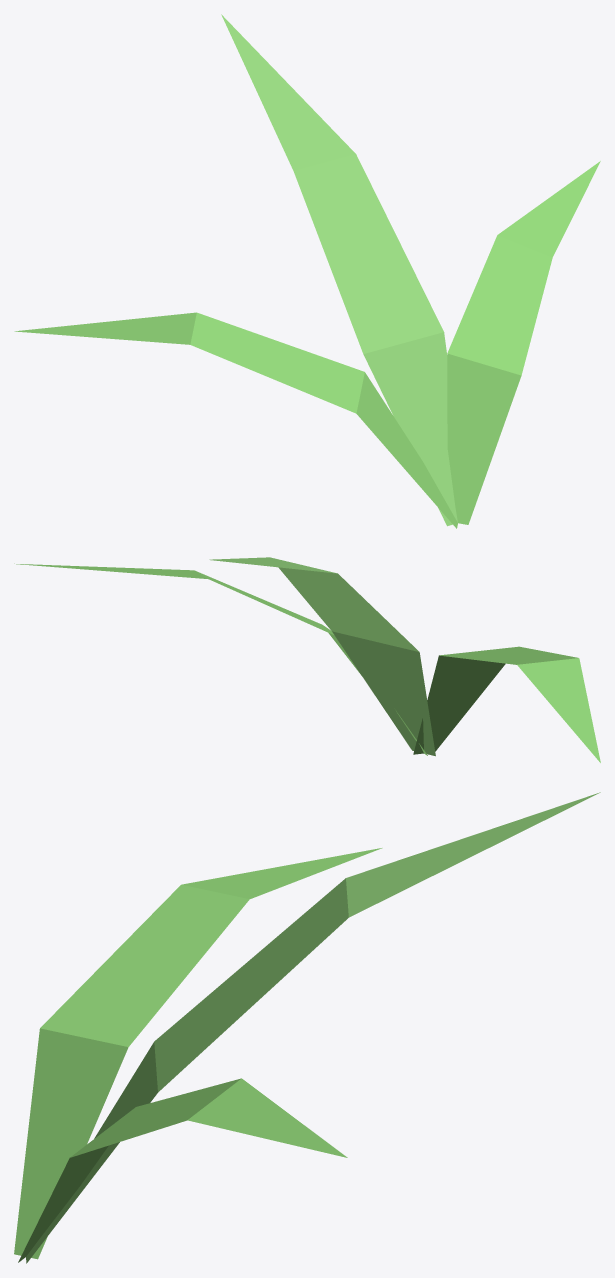
Rendered from Plant_e_TwoS_03.fbx.
3 views of the same model, one above another, from view 1: azimuth 30°, elevation 25°; view 2: azimuth 150°, elevation 25°; view 3: azimuth 270°, elevation 25° (orthographic). The views are drawn at different scales.
Parts seen in each view (by area): view 1: Plant_e_TwoS_03; view 2: Plant_e_TwoS_03; view 3: Plant_e_TwoS_03.
Part boxes in pixels (left/top/right/bottom): Plant_e_TwoS_03: left=14, top=14, right=600, bottom=528; Plant_e_TwoS_03: left=14, top=557, right=600, bottom=762; Plant_e_TwoS_03: left=14, top=792, right=600, bottom=1263.
Bounding box in the file's own units: 66.34 × 38.92 × 45.34.
